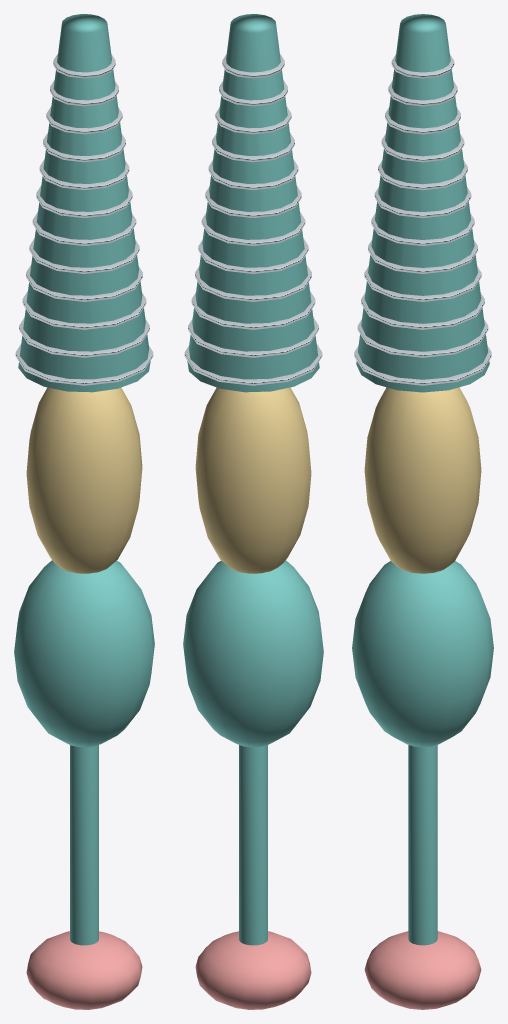
File: retina-cone-cell.glb
The picture shows the model from 3 angles, left to right: view 1: azimuth 30°, elevation 25°; view 2: azimuth 150°, elevation 25°; view 3: azimuth 270°, elevation 25°; orthographic projection.
Parts seen in each view (by area): view 1: outer_segment, cell_body, inner_segment, synaptic_pedicle, axon, outer_disc_0, outer_disc_1, outer_disc_2, outer_disc_3, outer_disc_4, outer_disc_5, outer_disc_6 (+5 smaller); view 2: outer_segment, cell_body, inner_segment, synaptic_pedicle, axon, outer_disc_0, outer_disc_1, outer_disc_2, outer_disc_3, outer_disc_4, outer_disc_5, outer_disc_6 (+5 smaller); view 3: outer_segment, cell_body, inner_segment, synaptic_pedicle, axon, outer_disc_0, outer_disc_1, outer_disc_2, outer_disc_3, outer_disc_4, outer_disc_5, outer_disc_6 (+5 smaller).
Part boxes in pixels (box(x1,y1,x2,y2)): outer_segment: box(18, 14, 150, 392); cell_body: box(14, 560, 154, 747); inner_segment: box(26, 387, 142, 573); synaptic_pedicle: box(26, 931, 142, 1009); axon: box(70, 745, 98, 945); outer_disc_0: box(15, 344, 153, 385); outer_disc_1: box(19, 317, 149, 357); outer_disc_2: box(22, 291, 146, 329); outer_disc_3: box(26, 264, 142, 301); outer_disc_4: box(29, 238, 139, 273); outer_disc_5: box(32, 212, 136, 245); outer_disc_6: box(36, 185, 132, 217); outer_segment: box(187, 14, 319, 392); cell_body: box(183, 560, 323, 747); inner_segment: box(195, 387, 311, 573); synaptic_pedicle: box(195, 931, 311, 1009); axon: box(239, 745, 267, 945); outer_disc_0: box(184, 344, 322, 385); outer_disc_1: box(188, 317, 318, 357); outer_disc_2: box(191, 291, 315, 329); outer_disc_3: box(195, 264, 311, 301); outer_disc_4: box(198, 238, 308, 273); outer_disc_5: box(201, 212, 305, 245); outer_disc_6: box(205, 185, 301, 217); outer_segment: box(356, 14, 489, 392); cell_body: box(352, 561, 493, 747); inner_segment: box(364, 387, 481, 573); synaptic_pedicle: box(364, 931, 481, 1009); axon: box(408, 745, 437, 945); outer_disc_0: box(354, 345, 491, 385); outer_disc_1: box(357, 319, 488, 357); outer_disc_2: box(361, 293, 484, 329); outer_disc_3: box(364, 266, 481, 301); outer_disc_4: box(368, 239, 477, 273); outer_disc_5: box(371, 213, 474, 245); outer_disc_6: box(374, 187, 471, 217).
Bounding box in the file's own units: 0.34 × 2.58 × 0.34.
